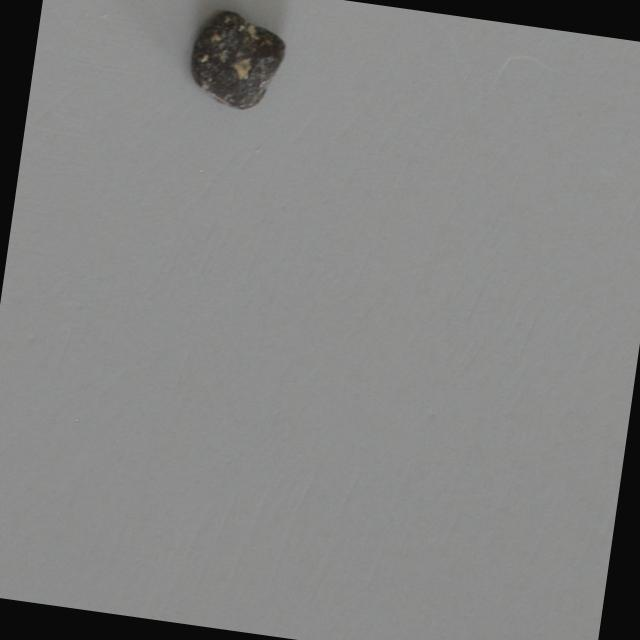cuerpos_extranos: (178, 0, 293, 116)
